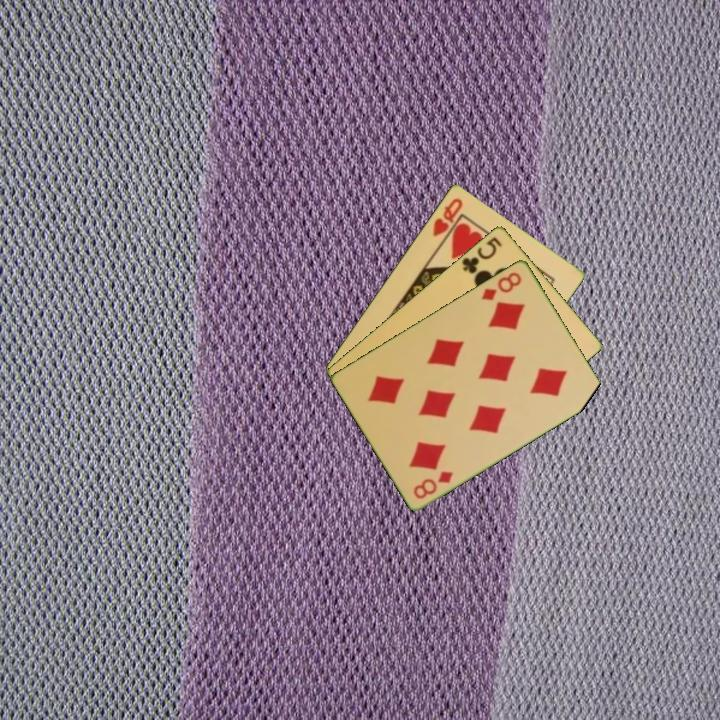5c: (458, 233, 505, 277)
8d: (478, 268, 525, 303), (410, 467, 456, 502)
Qh: (429, 194, 466, 239)
